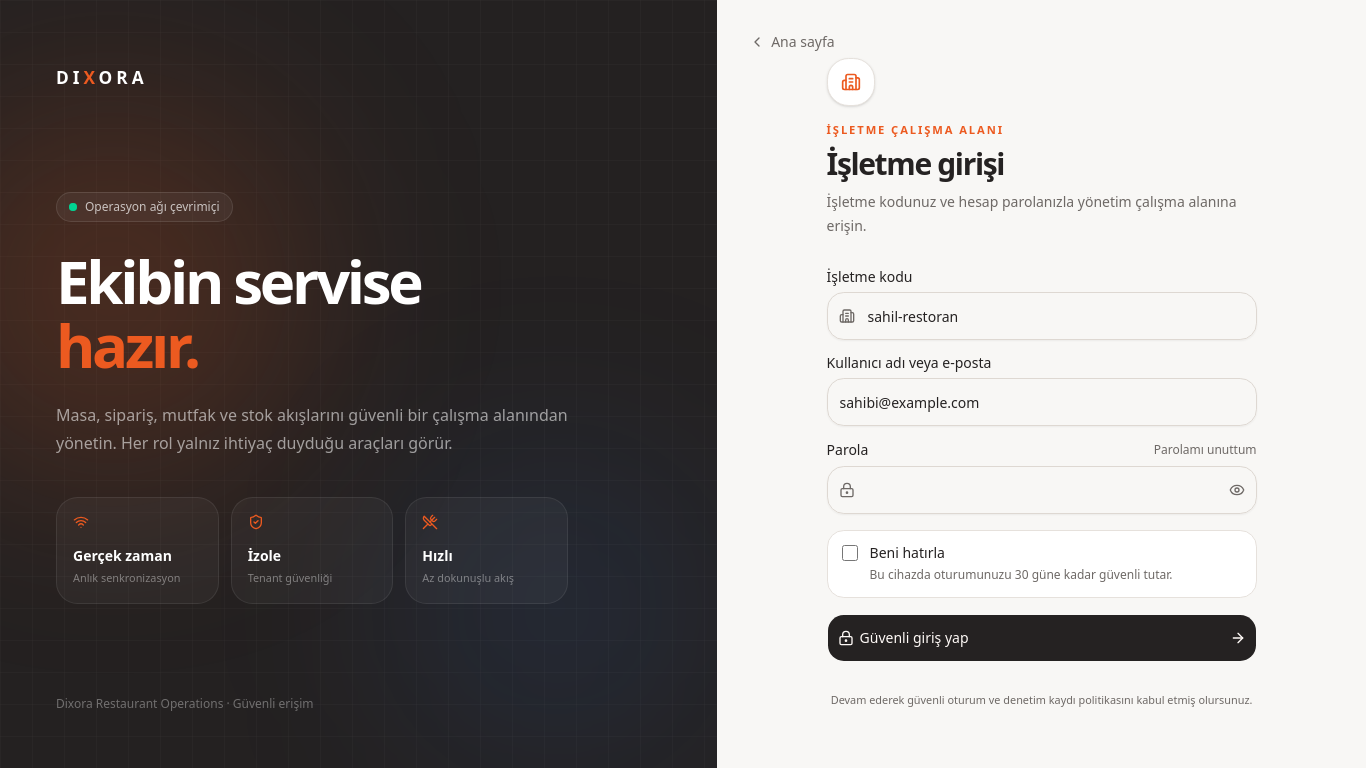
Test: LoginPanel › exposes an accessible control for showing and hiding the password
Click the button named "Parolayı göster" at (1237, 490), box [1229,482,1245,498]
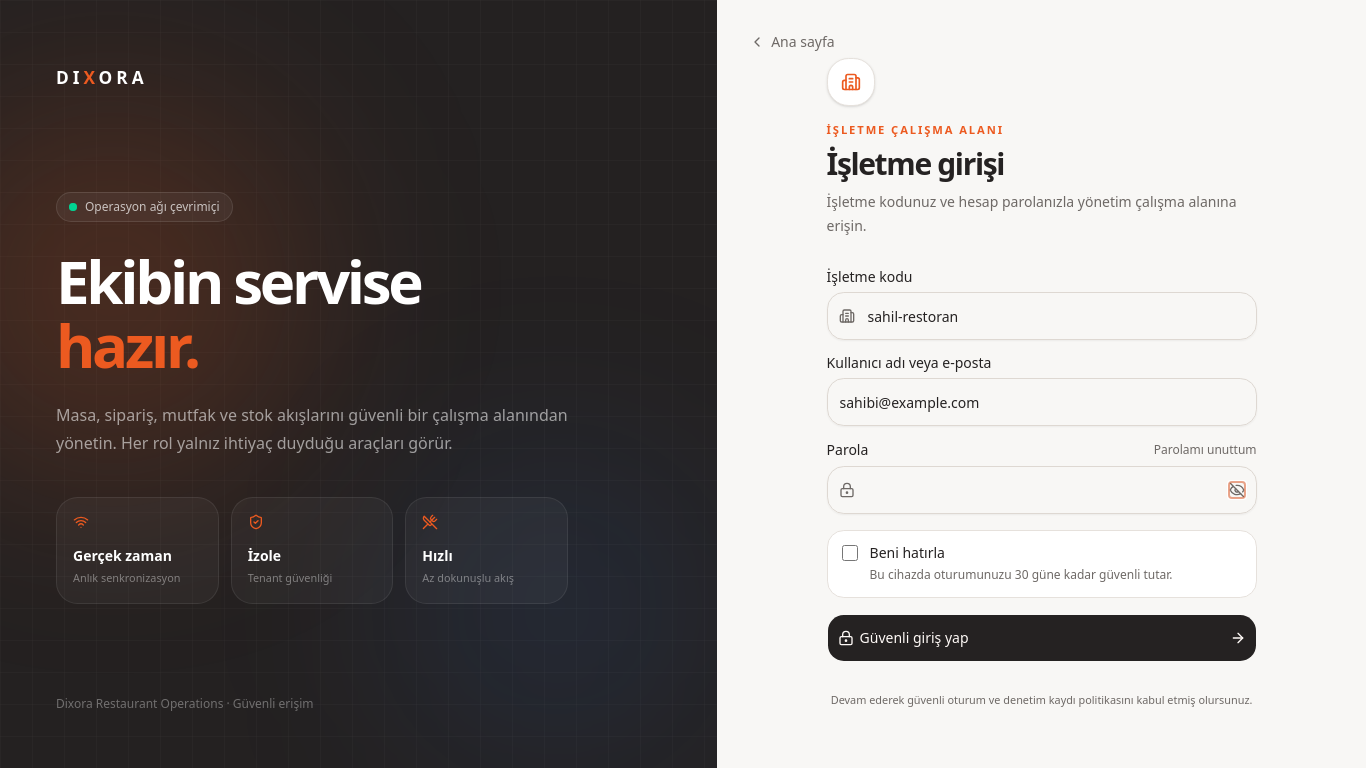
expect the checkbox labelled "Beni hatırla" is not checked: met, box [842,545,858,561]
expect the button named "Parolayı gizle" is shown: met, box [1229,482,1245,498]
